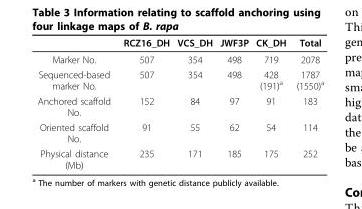table: (36, 36, 323, 170)
table column: (36, 36, 116, 170), (116, 36, 172, 170), (172, 36, 215, 170), (251, 36, 290, 170), (215, 36, 251, 170), (290, 36, 323, 170)
table column header: (36, 36, 323, 50)
table row: (36, 66, 323, 93), (36, 93, 323, 119), (36, 119, 323, 145), (36, 145, 323, 170), (36, 50, 323, 66), (36, 36, 323, 50)
